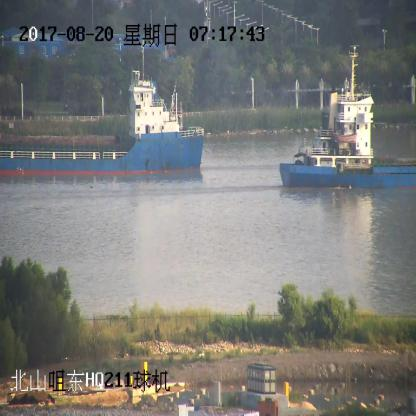Bulk Carrier: (0, 70, 203, 176), (278, 70, 415, 190)
